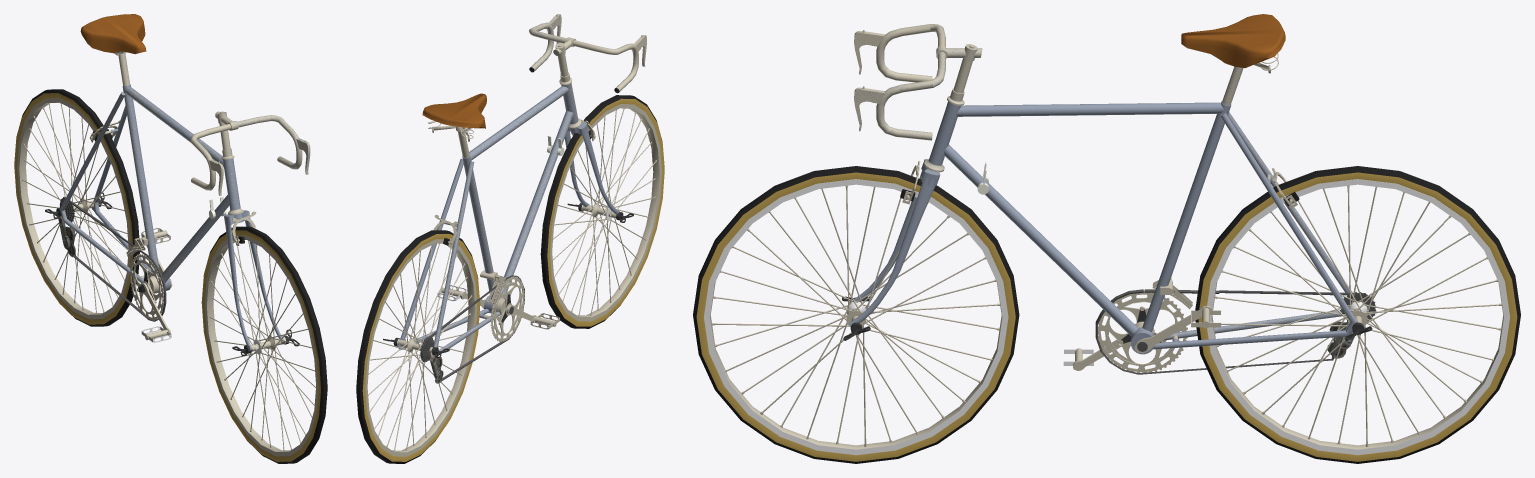
File: Blue_Road_Bike.dae
3 views of the same model, side by side, from view 1: azimuth 30°, elevation 25°; view 2: azimuth 150°, elevation 25°; view 3: azimuth 270°, elevation 25° (orthographic). The views are drawn at different scales.
Visible parts, largest first — view 1: Component_8 (×6), Component_7 (×4), group_11 (×4), Component_14, Component_1 (×2), group_7 (×2), Component_9, group_1, group_5; view 2: Component_8 (×6), Component_7 (×4), group_11 (×4), Component_1 (×2), Component_14, Component_9, group_1, group_7; view 3: Component_8 (×4), Component_7 (×4), group_11 (×3), Component_1 (×2), Component_14, Component_9, group_1, group_7.
Part boxes in pixels (<box>): Component_8 (×6): <box>14,89,327,463</box>; Component_7 (×4): <box>17,98,318,456</box>; group_11 (×4): <box>122,84,302,283</box>; Component_14: <box>80,14,146,54</box>; Component_1 (×2): <box>60,91,151,282</box>; group_7 (×2): <box>225,220,284,351</box>; Component_9: <box>129,254,163,320</box>; group_1: <box>59,197,166,321</box>; group_5: <box>58,216,75,257</box>; Component_8 (×6): <box>356,95,664,463</box>; Component_7 (×4): <box>365,104,661,456</box>; group_11 (×4): <box>462,22,638,302</box>; Component_1 (×2): <box>400,159,500,356</box>; Component_14: <box>422,93,486,128</box>; Component_9: <box>490,276,524,341</box>; group_1: <box>420,275,524,380</box>; group_7: <box>582,127,619,214</box>; Component_8 (×4): <box>693,167,1520,463</box>; Component_7 (×4): <box>704,179,1509,455</box>; group_11 (×3): <box>876,24,1231,335</box>; Component_1 (×2): <box>1153,112,1357,349</box>; Component_14: <box>1181,14,1285,67</box>; Component_9: <box>1098,290,1187,372</box>; group_1: <box>1095,289,1375,374</box>; group_7: <box>849,177,935,326</box>.
Bounding box in the file's own units: 11.54 × 67.58 × 38.82.
